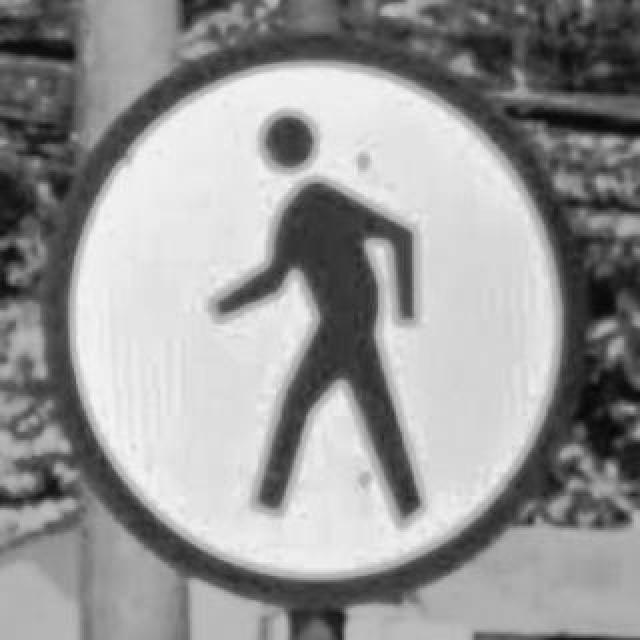pedestrian crossing: (36, 30, 584, 598)
